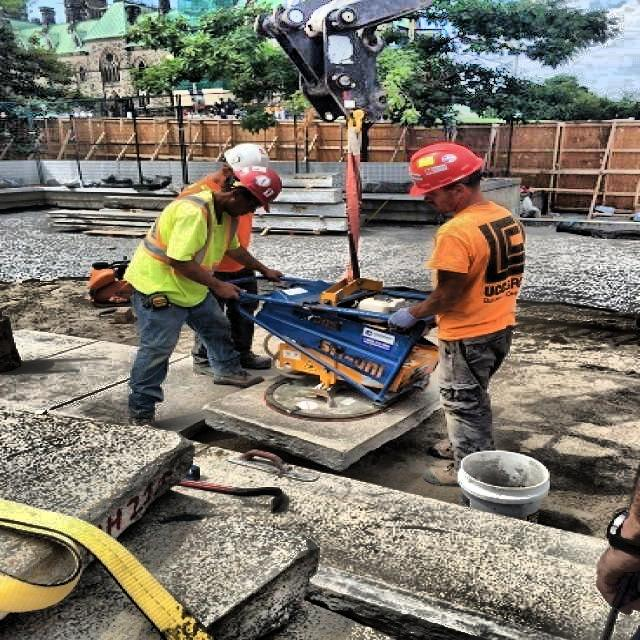person: (405, 141, 560, 490), (115, 163, 282, 431), (181, 144, 276, 382)
